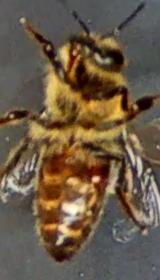varroa_mite: (80, 163, 120, 194)
